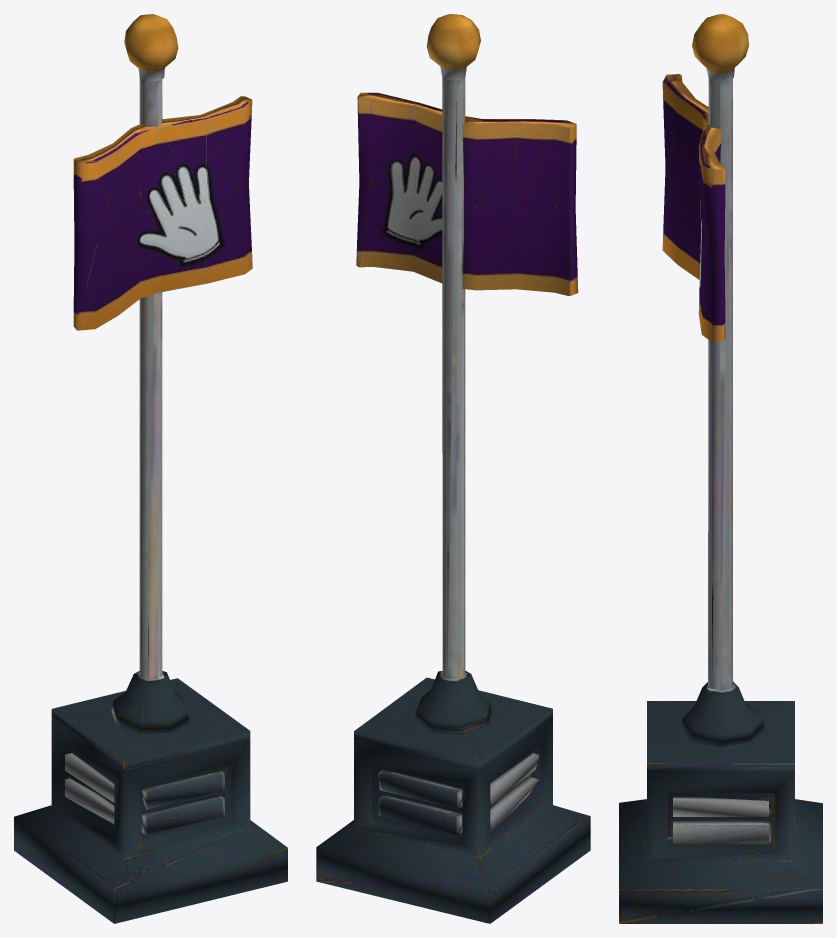
File: roof_flag.glb
3 views of the same model, side by side, from view 1: azimuth 30°, elevation 25°; view 2: azimuth 150°, elevation 25°; view 3: azimuth 270°, elevation 25° (orthographic).
Size of the model in its own units: 1.46 by 6 by 1.28.
1 material, 1 textured.
